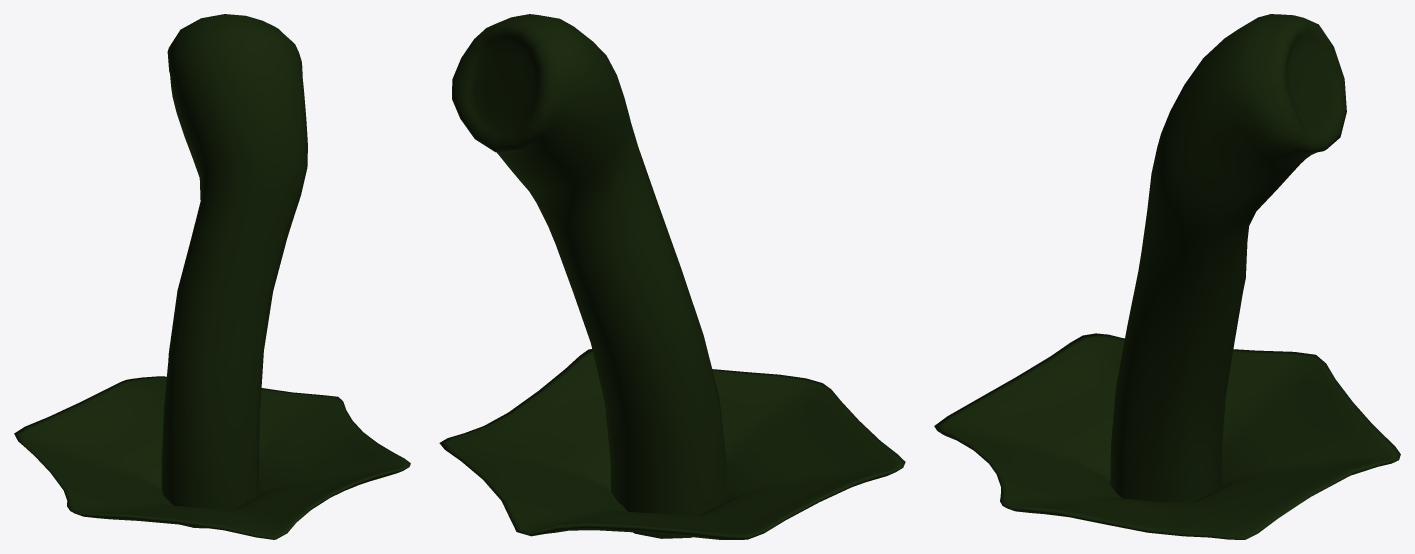
The model's file is Green-Pepper.obj.
3 views of the same model, side by side, from view 1: azimuth 30°, elevation 25°; view 2: azimuth 150°, elevation 25°; view 3: azimuth 270°, elevation 25° (orthographic). The views are drawn at different scales.
Parts seen in each view (by area): view 1: Green-Pepper_Cylinder.037; view 2: Green-Pepper_Cylinder.037; view 3: Green-Pepper_Cylinder.037.
Boxes of the visible parts, box(x1,y1,x2,y2) form: Green-Pepper_Cylinder.037: box(14, 14, 410, 539); Green-Pepper_Cylinder.037: box(439, 14, 905, 539); Green-Pepper_Cylinder.037: box(934, 14, 1400, 539).
Size of the model in its own units: 0.0276 by 0.0348 by 0.0285.
